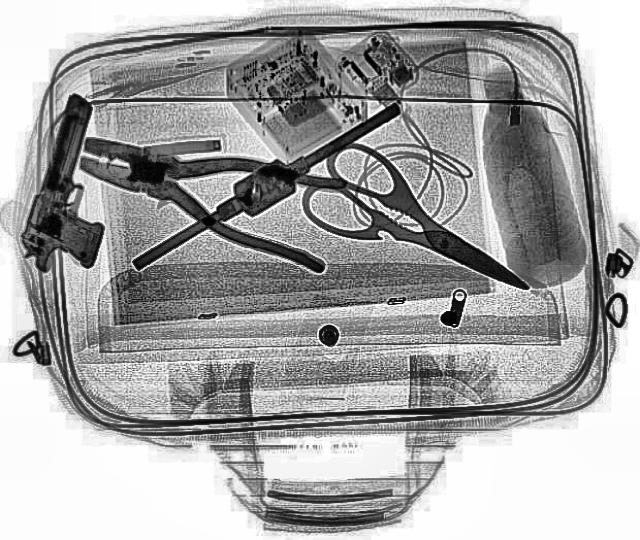Gun: (6, 92, 148, 280)
Pliers: (58, 109, 366, 273)
Scissors: (279, 134, 559, 326)
